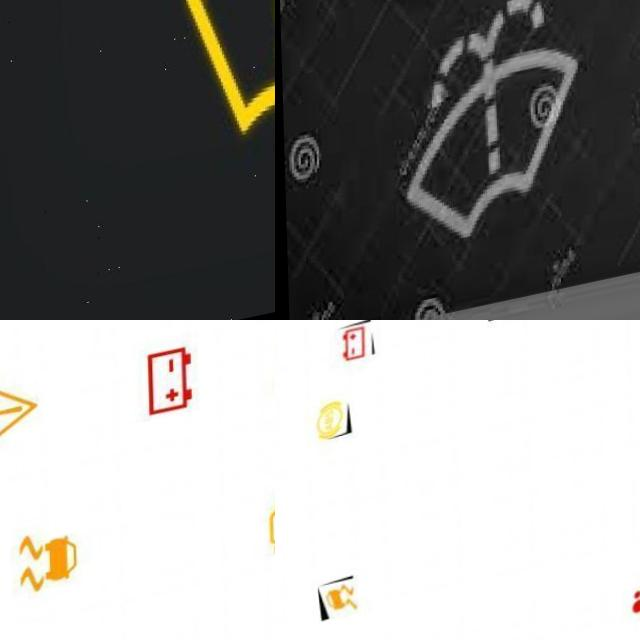Washer Fluid: (398, 0, 583, 253), (172, 0, 275, 166)
